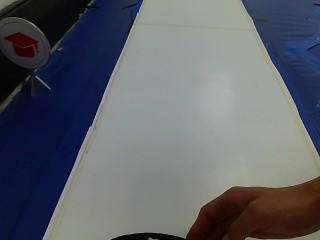school: (1, 14, 49, 72)
